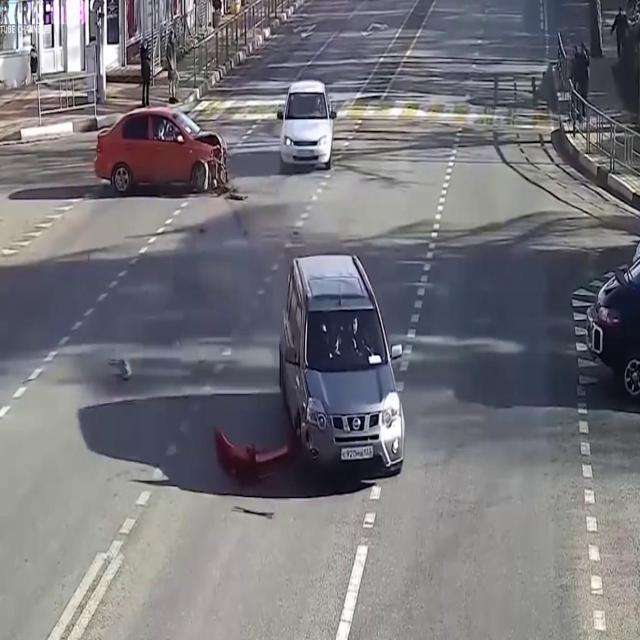accident: (203, 242, 415, 514), (86, 95, 254, 209)
